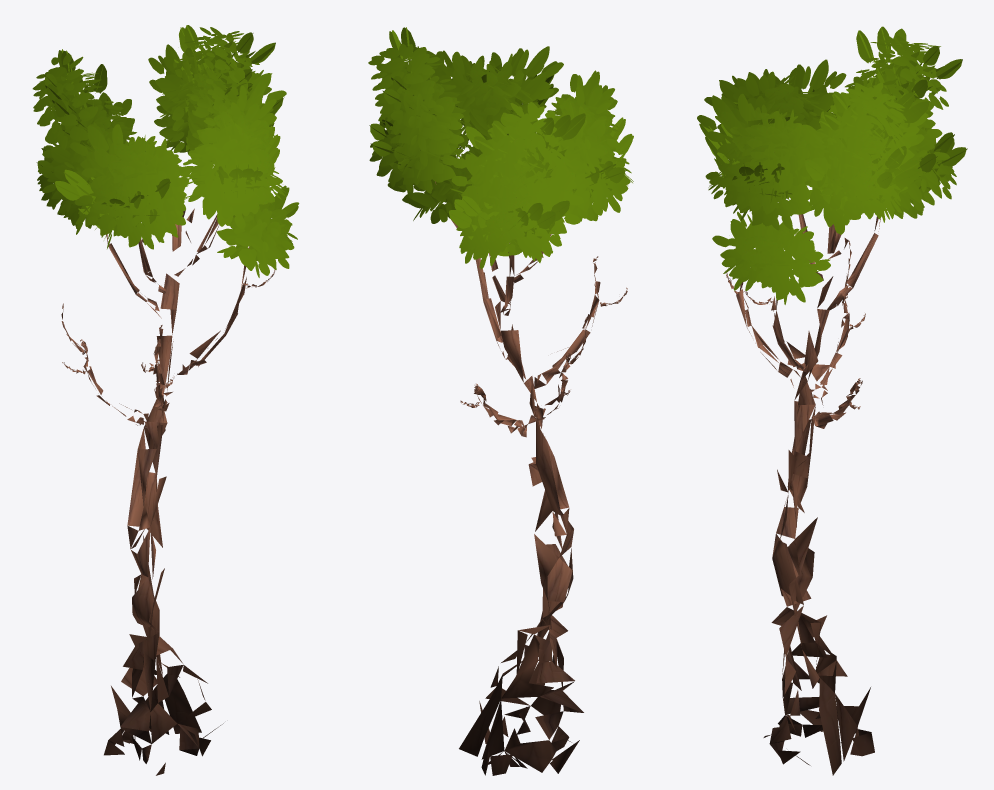
File: beringin-2.glb
3 renders of one model, left to right at view 1: azimuth 30°, elevation 25°; view 2: azimuth 150°, elevation 25°; view 3: azimuth 270°, elevation 25°, orthographic. The views are drawn at different scales.
Visible parts, largest first — view 1: CommonTree_4; view 2: CommonTree_4; view 3: CommonTree_4.
Part boxes in pixels (x1,y1,x2,y2): CommonTree_4: (32,25,299,775); CommonTree_4: (368,27,633,775); CommonTree_4: (697,26,967,775).
Bounding box in the file's own units: 6.19 × 15.65 × 5.95.
Materials: 2 (2 with a texture image).
